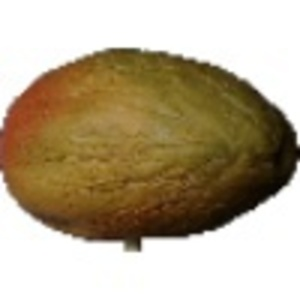mamão: (1, 42, 297, 242)
